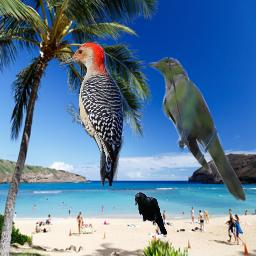Crow: (134, 192, 167, 237)
Cuckoo: (148, 57, 251, 203)
Woodpecker: (59, 41, 124, 186)
